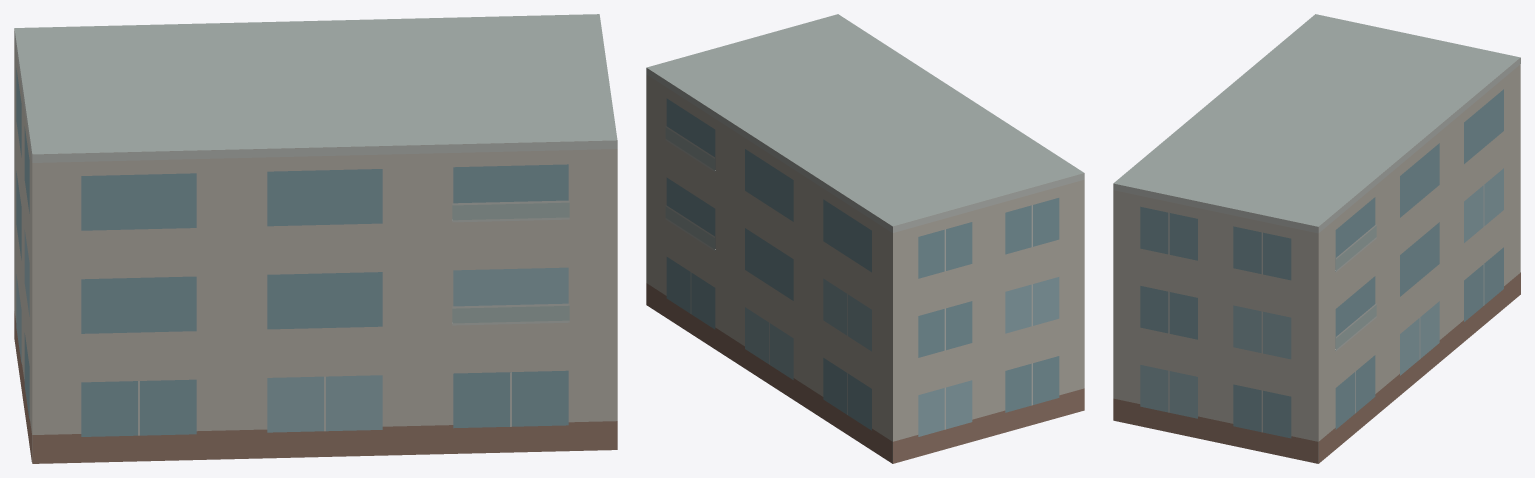
Rendered from survey-upis-32842921.glb.
The picture shows the model from 3 angles, left to right: view 1: azimuth 30°, elevation 25°; view 2: azimuth 150°, elevation 25°; view 3: azimuth 270°, elevation 25°; orthographic projection. The views are drawn at different scales.
Parts seen in each view (by area): view 1: survey-upis-32842921.tmp; view 2: survey-upis-32842921.tmp; view 3: survey-upis-32842921.tmp.
Part boxes in pixels (left/top/right/bottom): survey-upis-32842921.tmp: left=14, top=14, right=617, bottom=463; survey-upis-32842921.tmp: left=646, top=14, right=1084, bottom=463; survey-upis-32842921.tmp: left=1113, top=14, right=1520, bottom=463.
Size of the model in its own units: 16.76 by 8.7 by 13.56.
